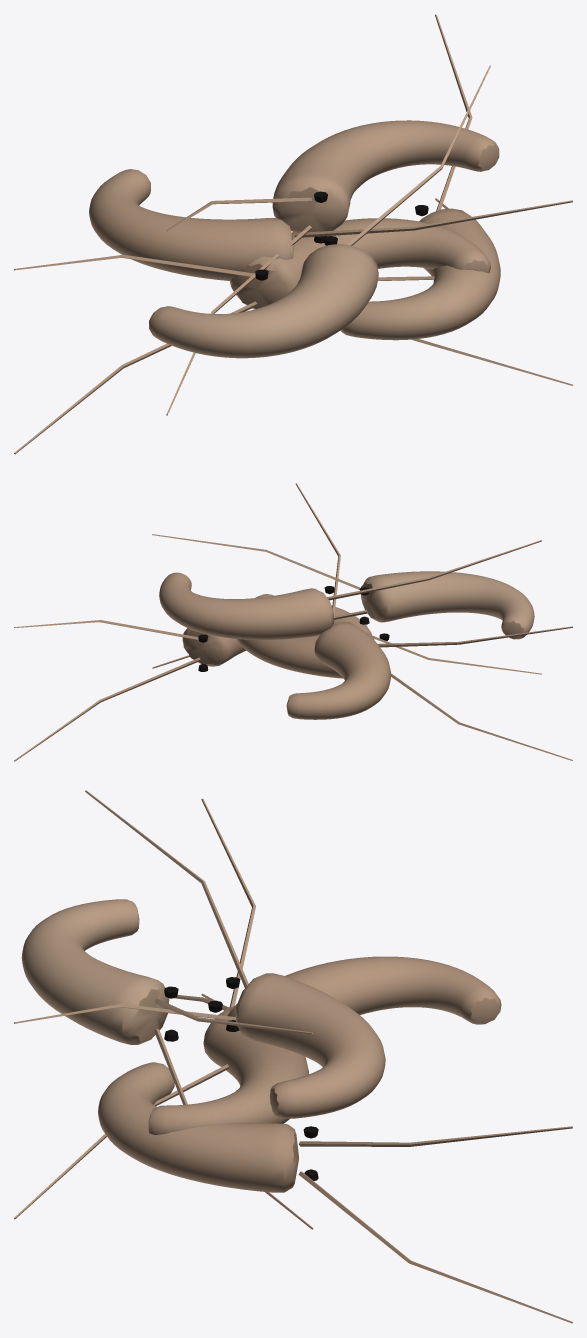
File: shrimp.glb
3 views of the same model, one above another, from view 1: azimuth 30°, elevation 25°; view 2: azimuth 150°, elevation 25°; view 3: azimuth 270°, elevation 25° (orthographic). The views are drawn at different scales.
Parts seen in each view (by area): view 1: shrimp; view 2: shrimp; view 3: shrimp.
Part boxes in pixels (box(x1,y1,x2,y2)): shrimp: box(14, 14, 572, 454); shrimp: box(14, 483, 572, 761); shrimp: box(14, 790, 572, 1323).
Size of the model in its own units: 0.1357 by 0.0564 by 0.1037.
1 material, 1 textured.
